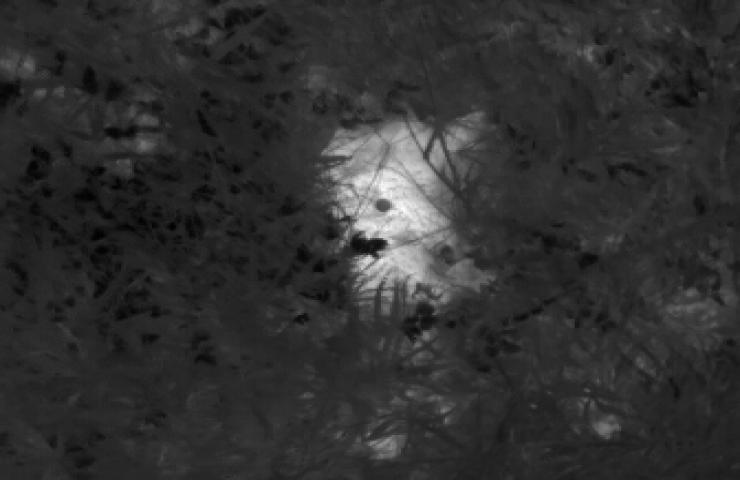landmines: (316, 111, 503, 322)
